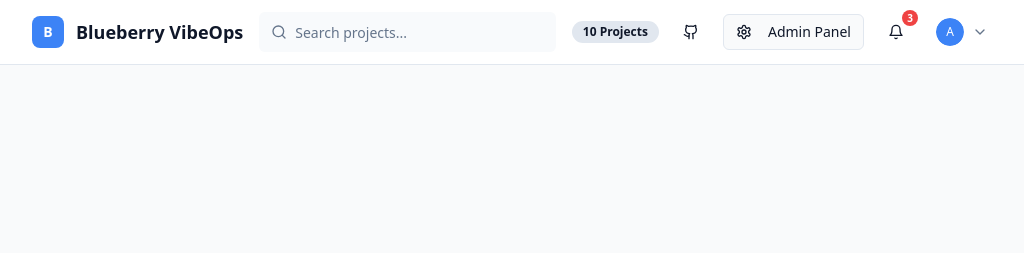
Test: Header › user menu › should render user menu with email
Expected: the 1st button is shown, [671,12,711,52]
Click the button "A" at (960, 32), box [928,12,992,52]
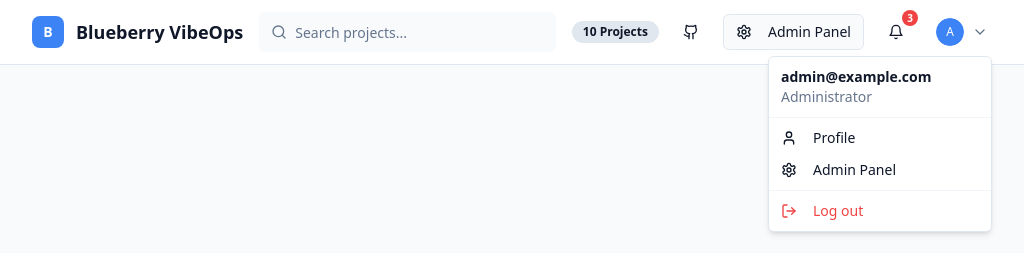
Expected: the text "admin@example.com" is shown, [781,67,931,86]
